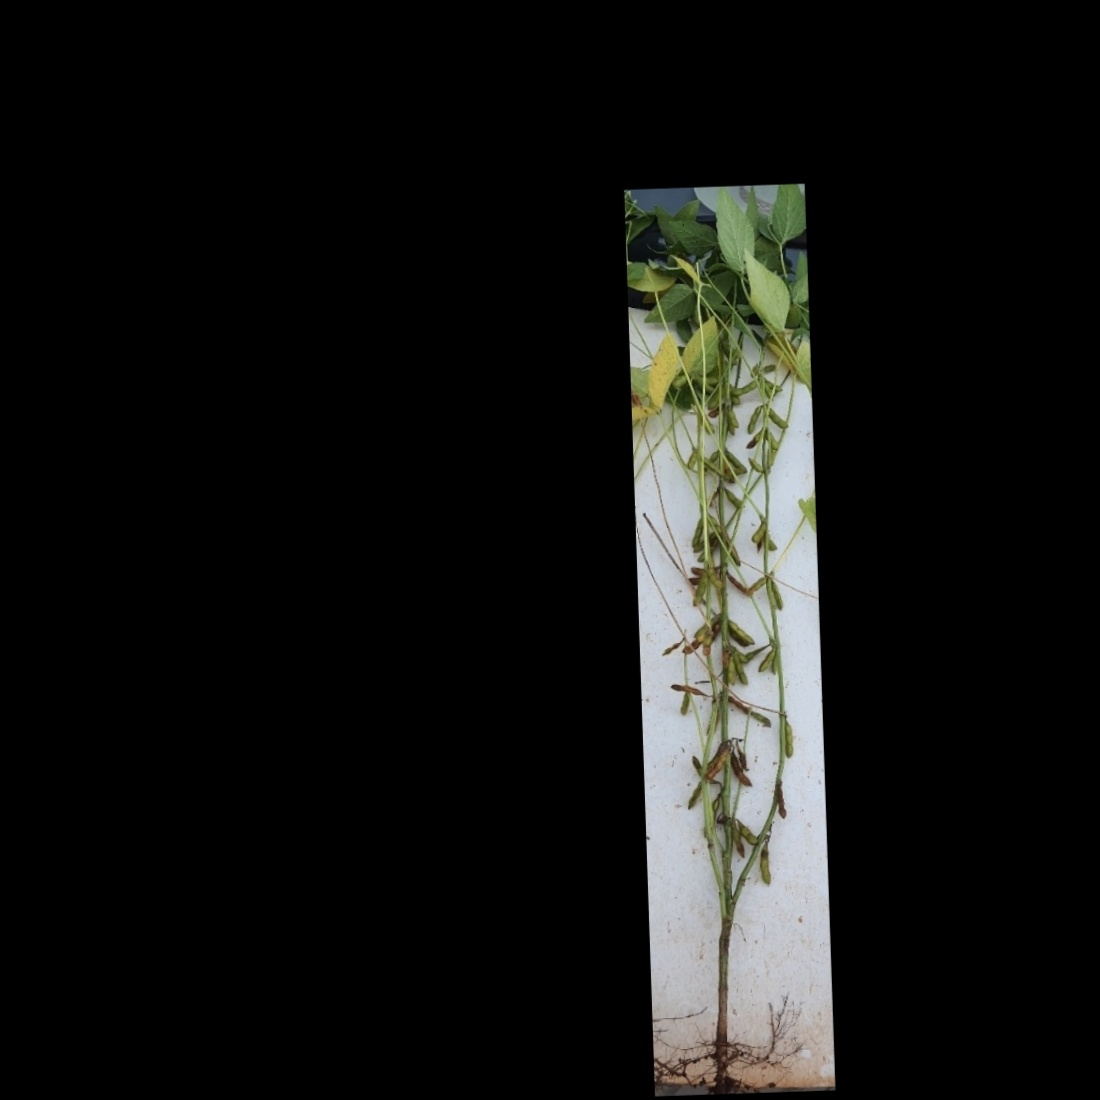pod: (729, 752, 757, 794), (724, 615, 757, 647), (722, 446, 748, 480), (728, 647, 749, 689), (757, 841, 775, 888), (699, 565, 727, 595), (742, 405, 765, 438), (736, 818, 760, 847), (781, 722, 800, 758), (767, 405, 790, 433), (766, 578, 784, 613), (726, 380, 760, 399), (757, 645, 776, 677), (748, 520, 765, 543)
soy: (634, 188, 831, 1082)
